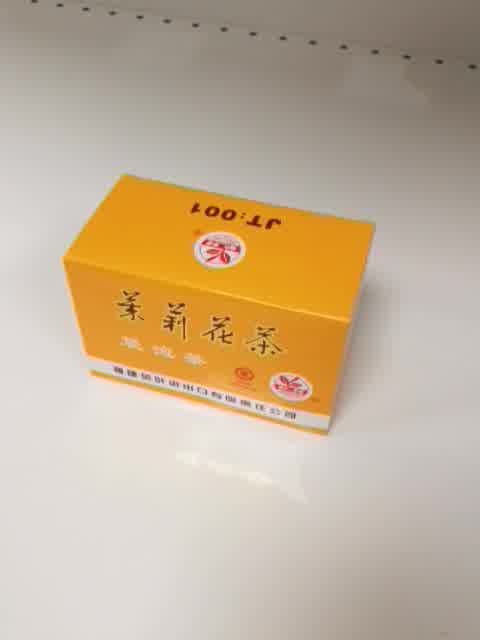jasminetea: (60, 172, 376, 438)
